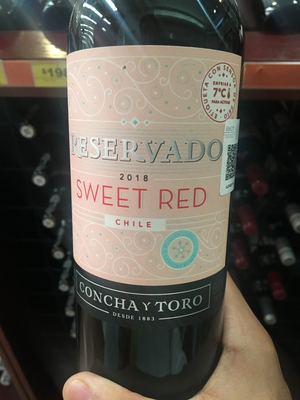reservado sweet red: (67, 2, 245, 400)
